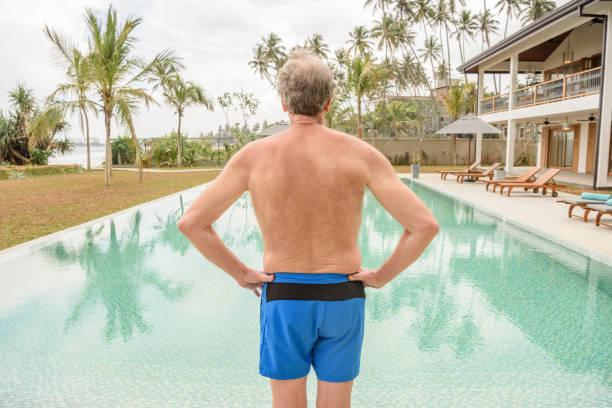Human: (172, 44, 477, 408)
